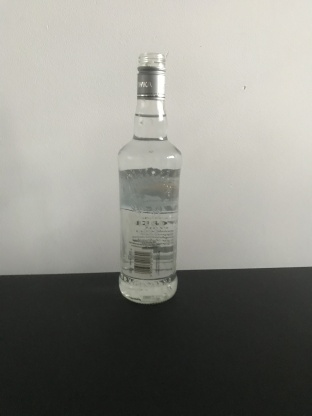nakretka: (135, 51, 167, 102)
